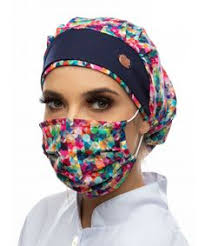with_mask_and_cap: (41, 16, 162, 197)
